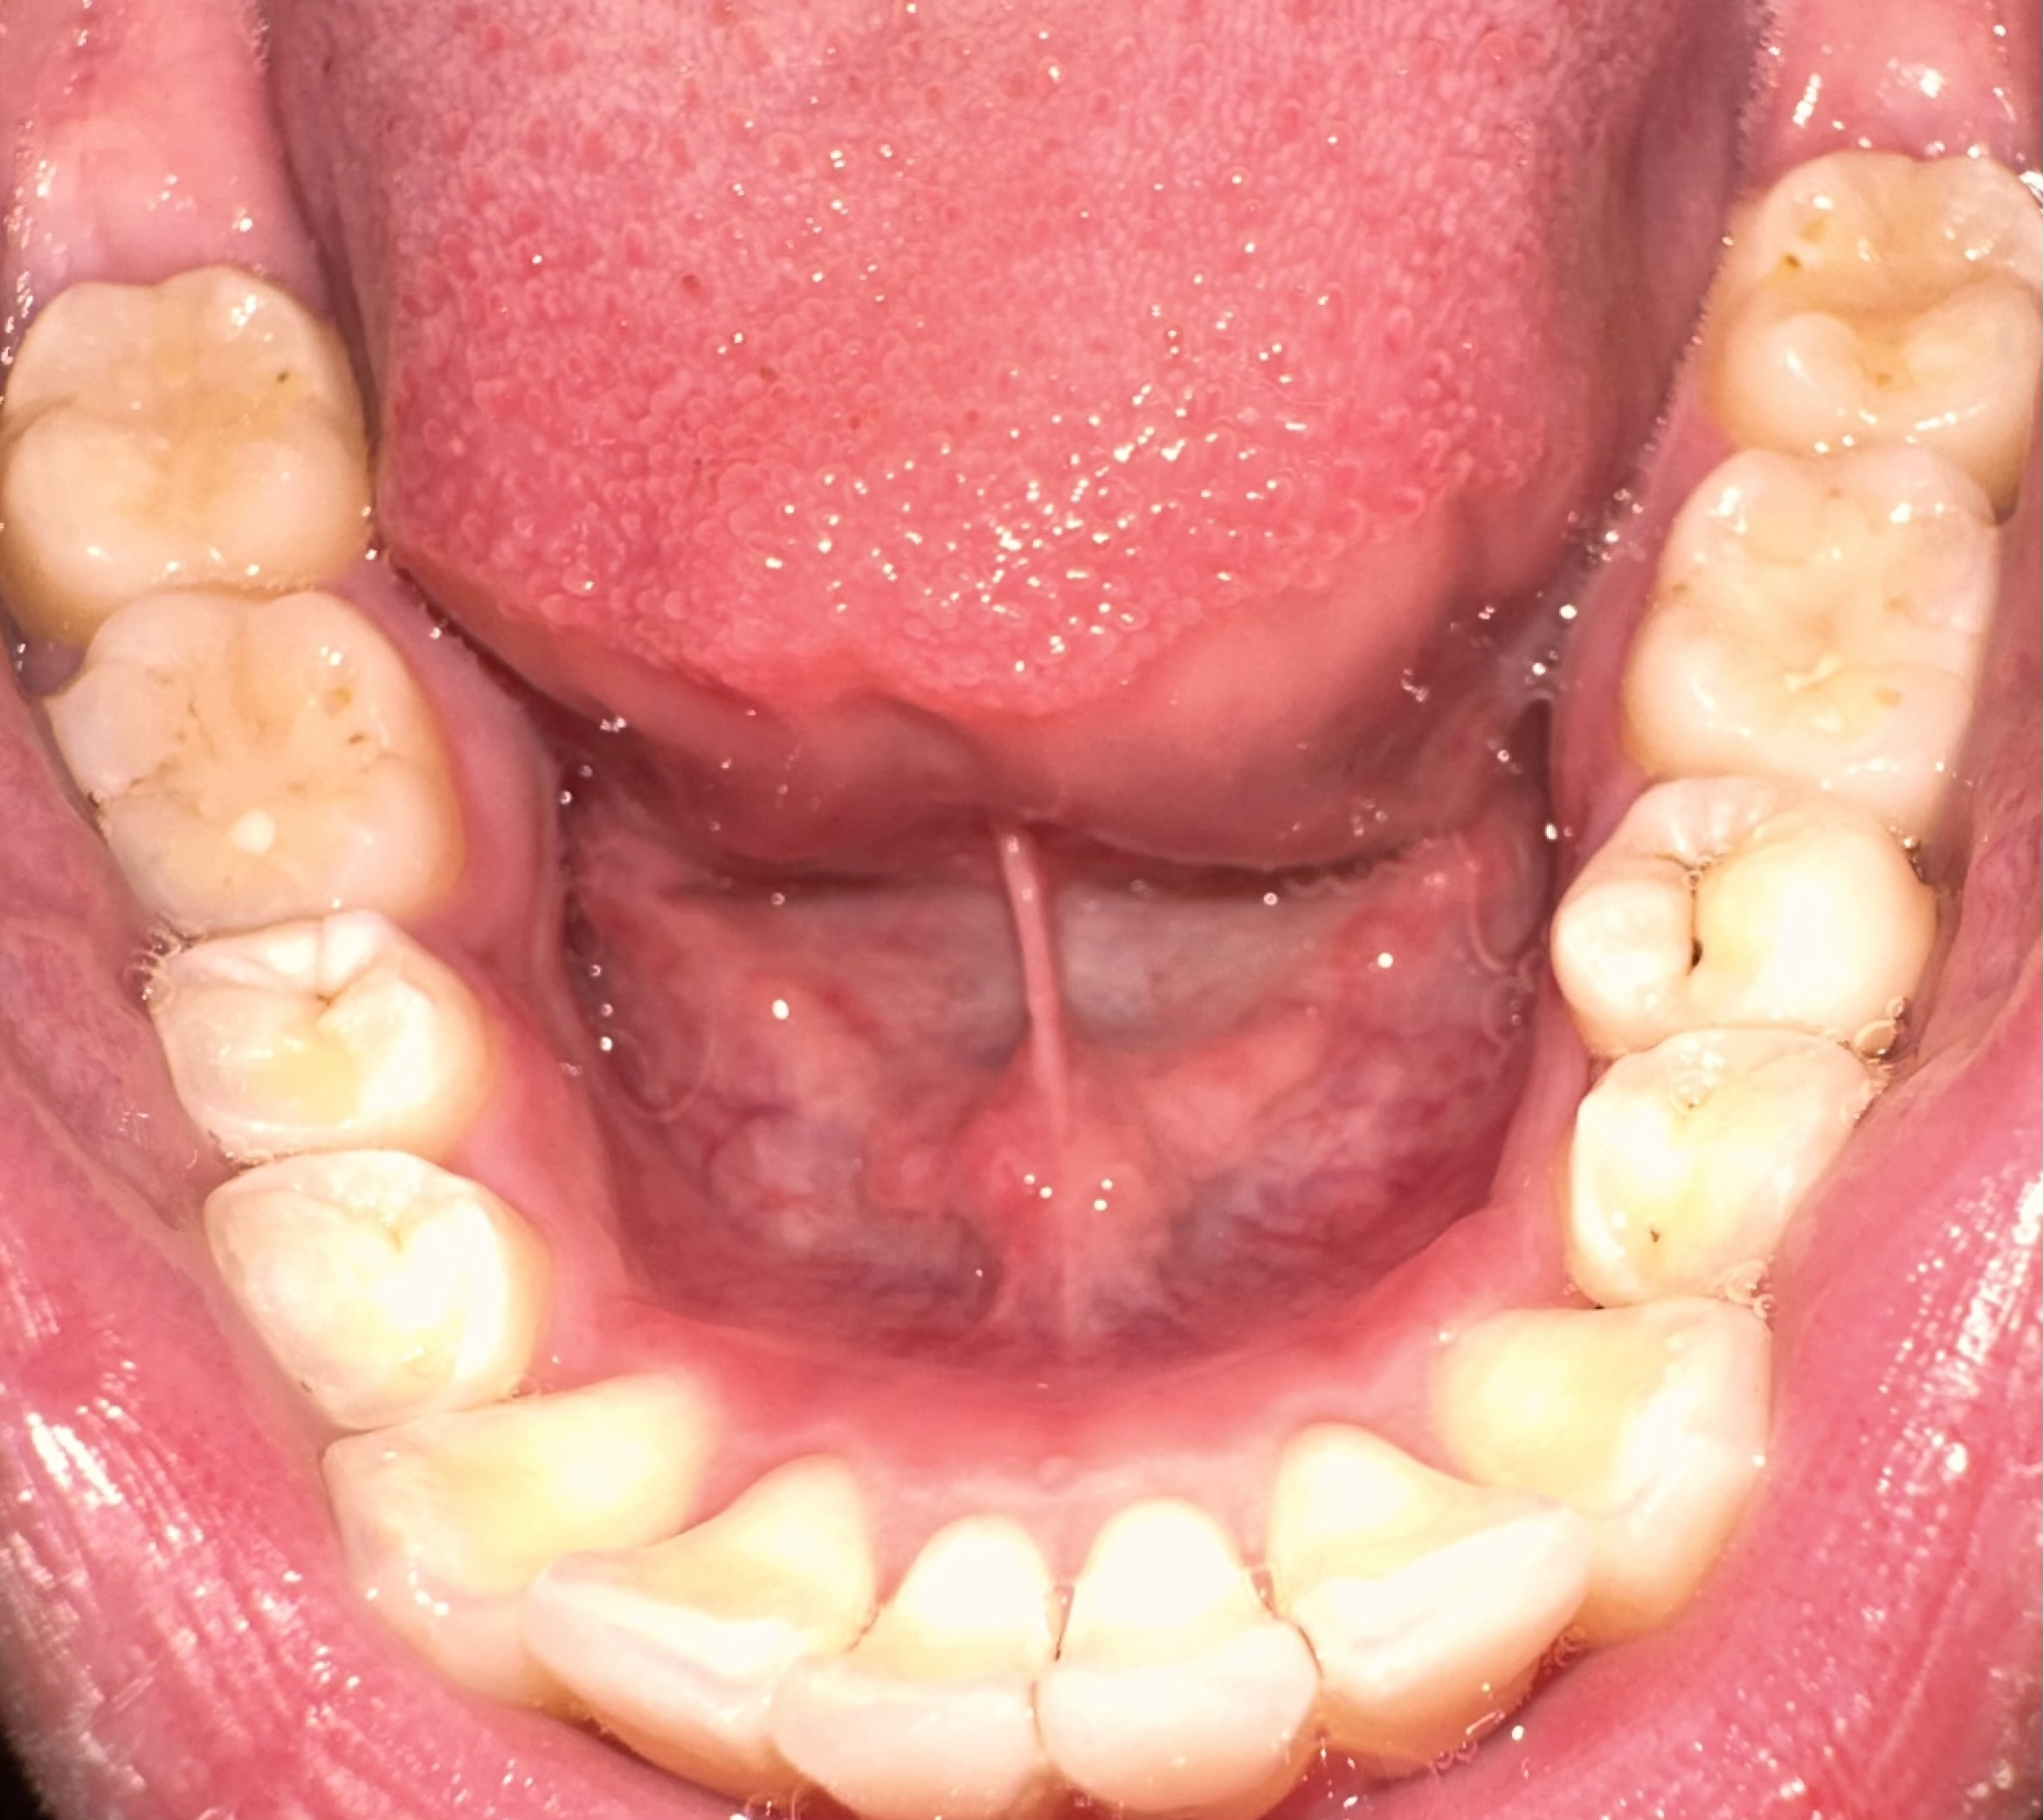teeth: (83, 576, 471, 924), (1639, 464, 1996, 822), (11, 293, 351, 626), (1560, 782, 1917, 1065), (1441, 1305, 1763, 1610), (543, 1461, 857, 1775), (349, 1371, 683, 1654), (1742, 149, 2035, 459), (1281, 1447, 1585, 1737), (208, 1152, 530, 1406), (774, 1515, 1042, 1807), (1080, 1496, 1319, 1801), (1577, 1053, 1874, 1292), (144, 942, 465, 1145)
